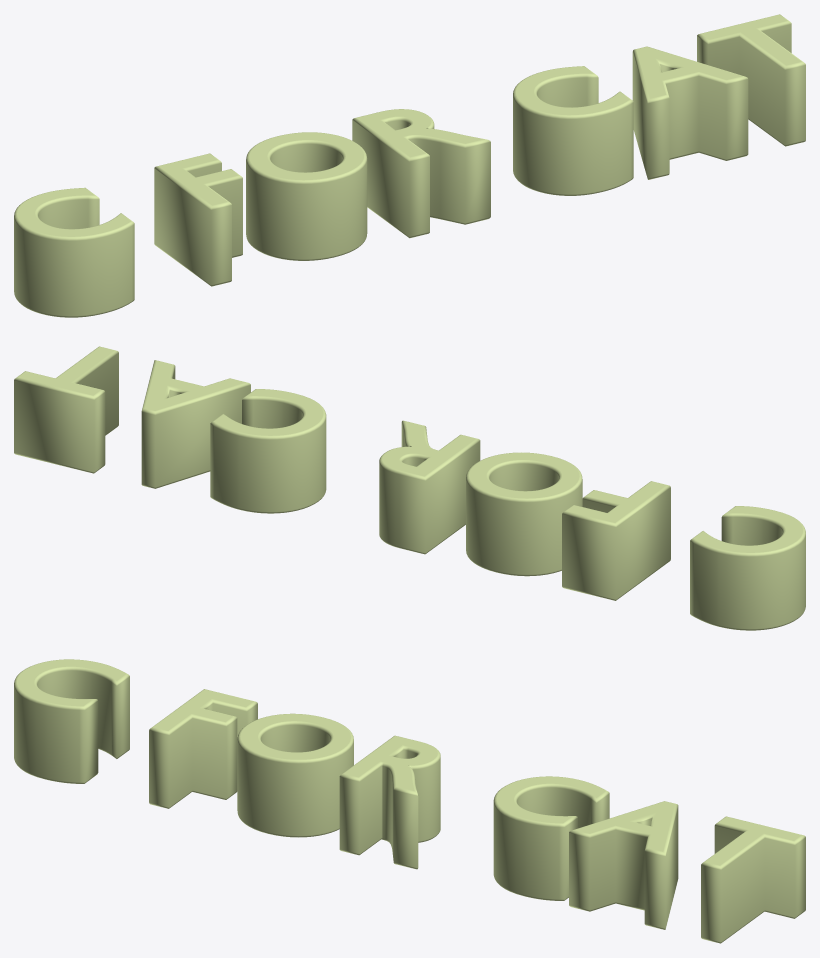
File: CATTEXT.fbx
3 views of the same model, one above another, from view 1: azimuth 30°, elevation 25°; view 2: azimuth 150°, elevation 25°; view 3: azimuth 330°, elevation 25° (orthographic). The views are drawn at different scales.
Parts seen in each view (by area): view 1: Text.001; view 2: Text.001; view 3: Text.001.
Part boxes in pixels (x1,y1,x2,y2): Text.001: [14, 14, 805, 317]; Text.001: [14, 346, 805, 630]; Text.001: [14, 659, 805, 943].
Bounding box in the file's own units: 593 × 58 × 76.01.
